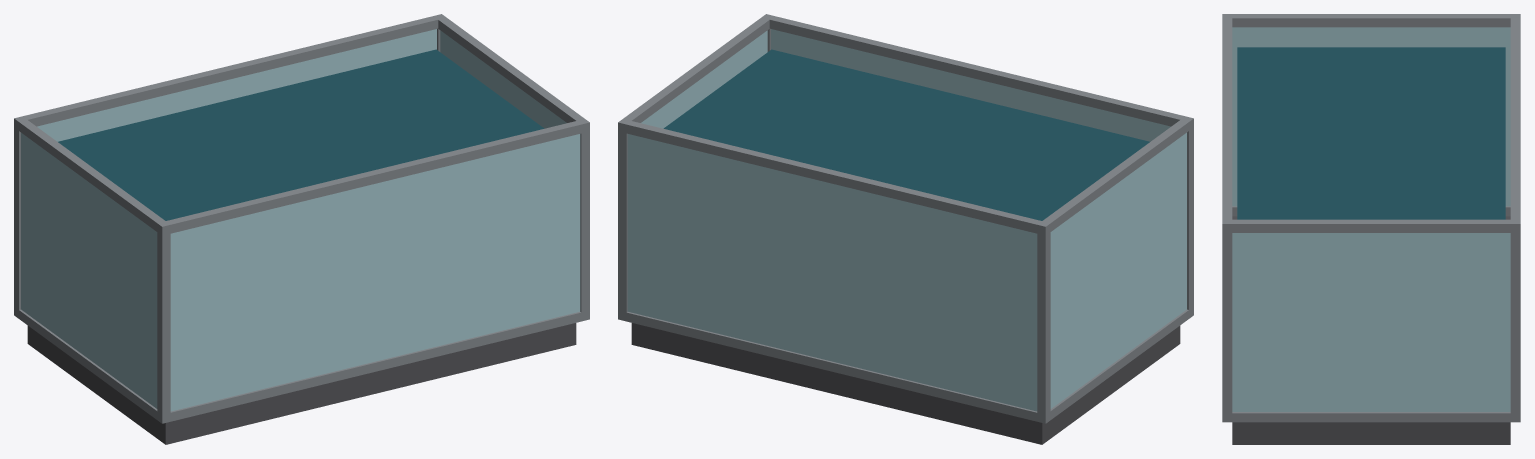
File: tank.glb
The picture shows the model from 3 angles, left to right: view 1: azimuth 30°, elevation 25°; view 2: azimuth 150°, elevation 25°; view 3: azimuth 270°, elevation 25°; orthographic projection.
Parts seen in each view (by area): view 1: tank; view 2: tank; view 3: tank.
Part boxes in pixels (<box>): tank: <box>14,14,589,444</box>; tank: <box>618,14,1193,444</box>; tank: <box>1222,14,1520,444</box>.
Size of the model in its own units: 5 by 2.5 by 3.
